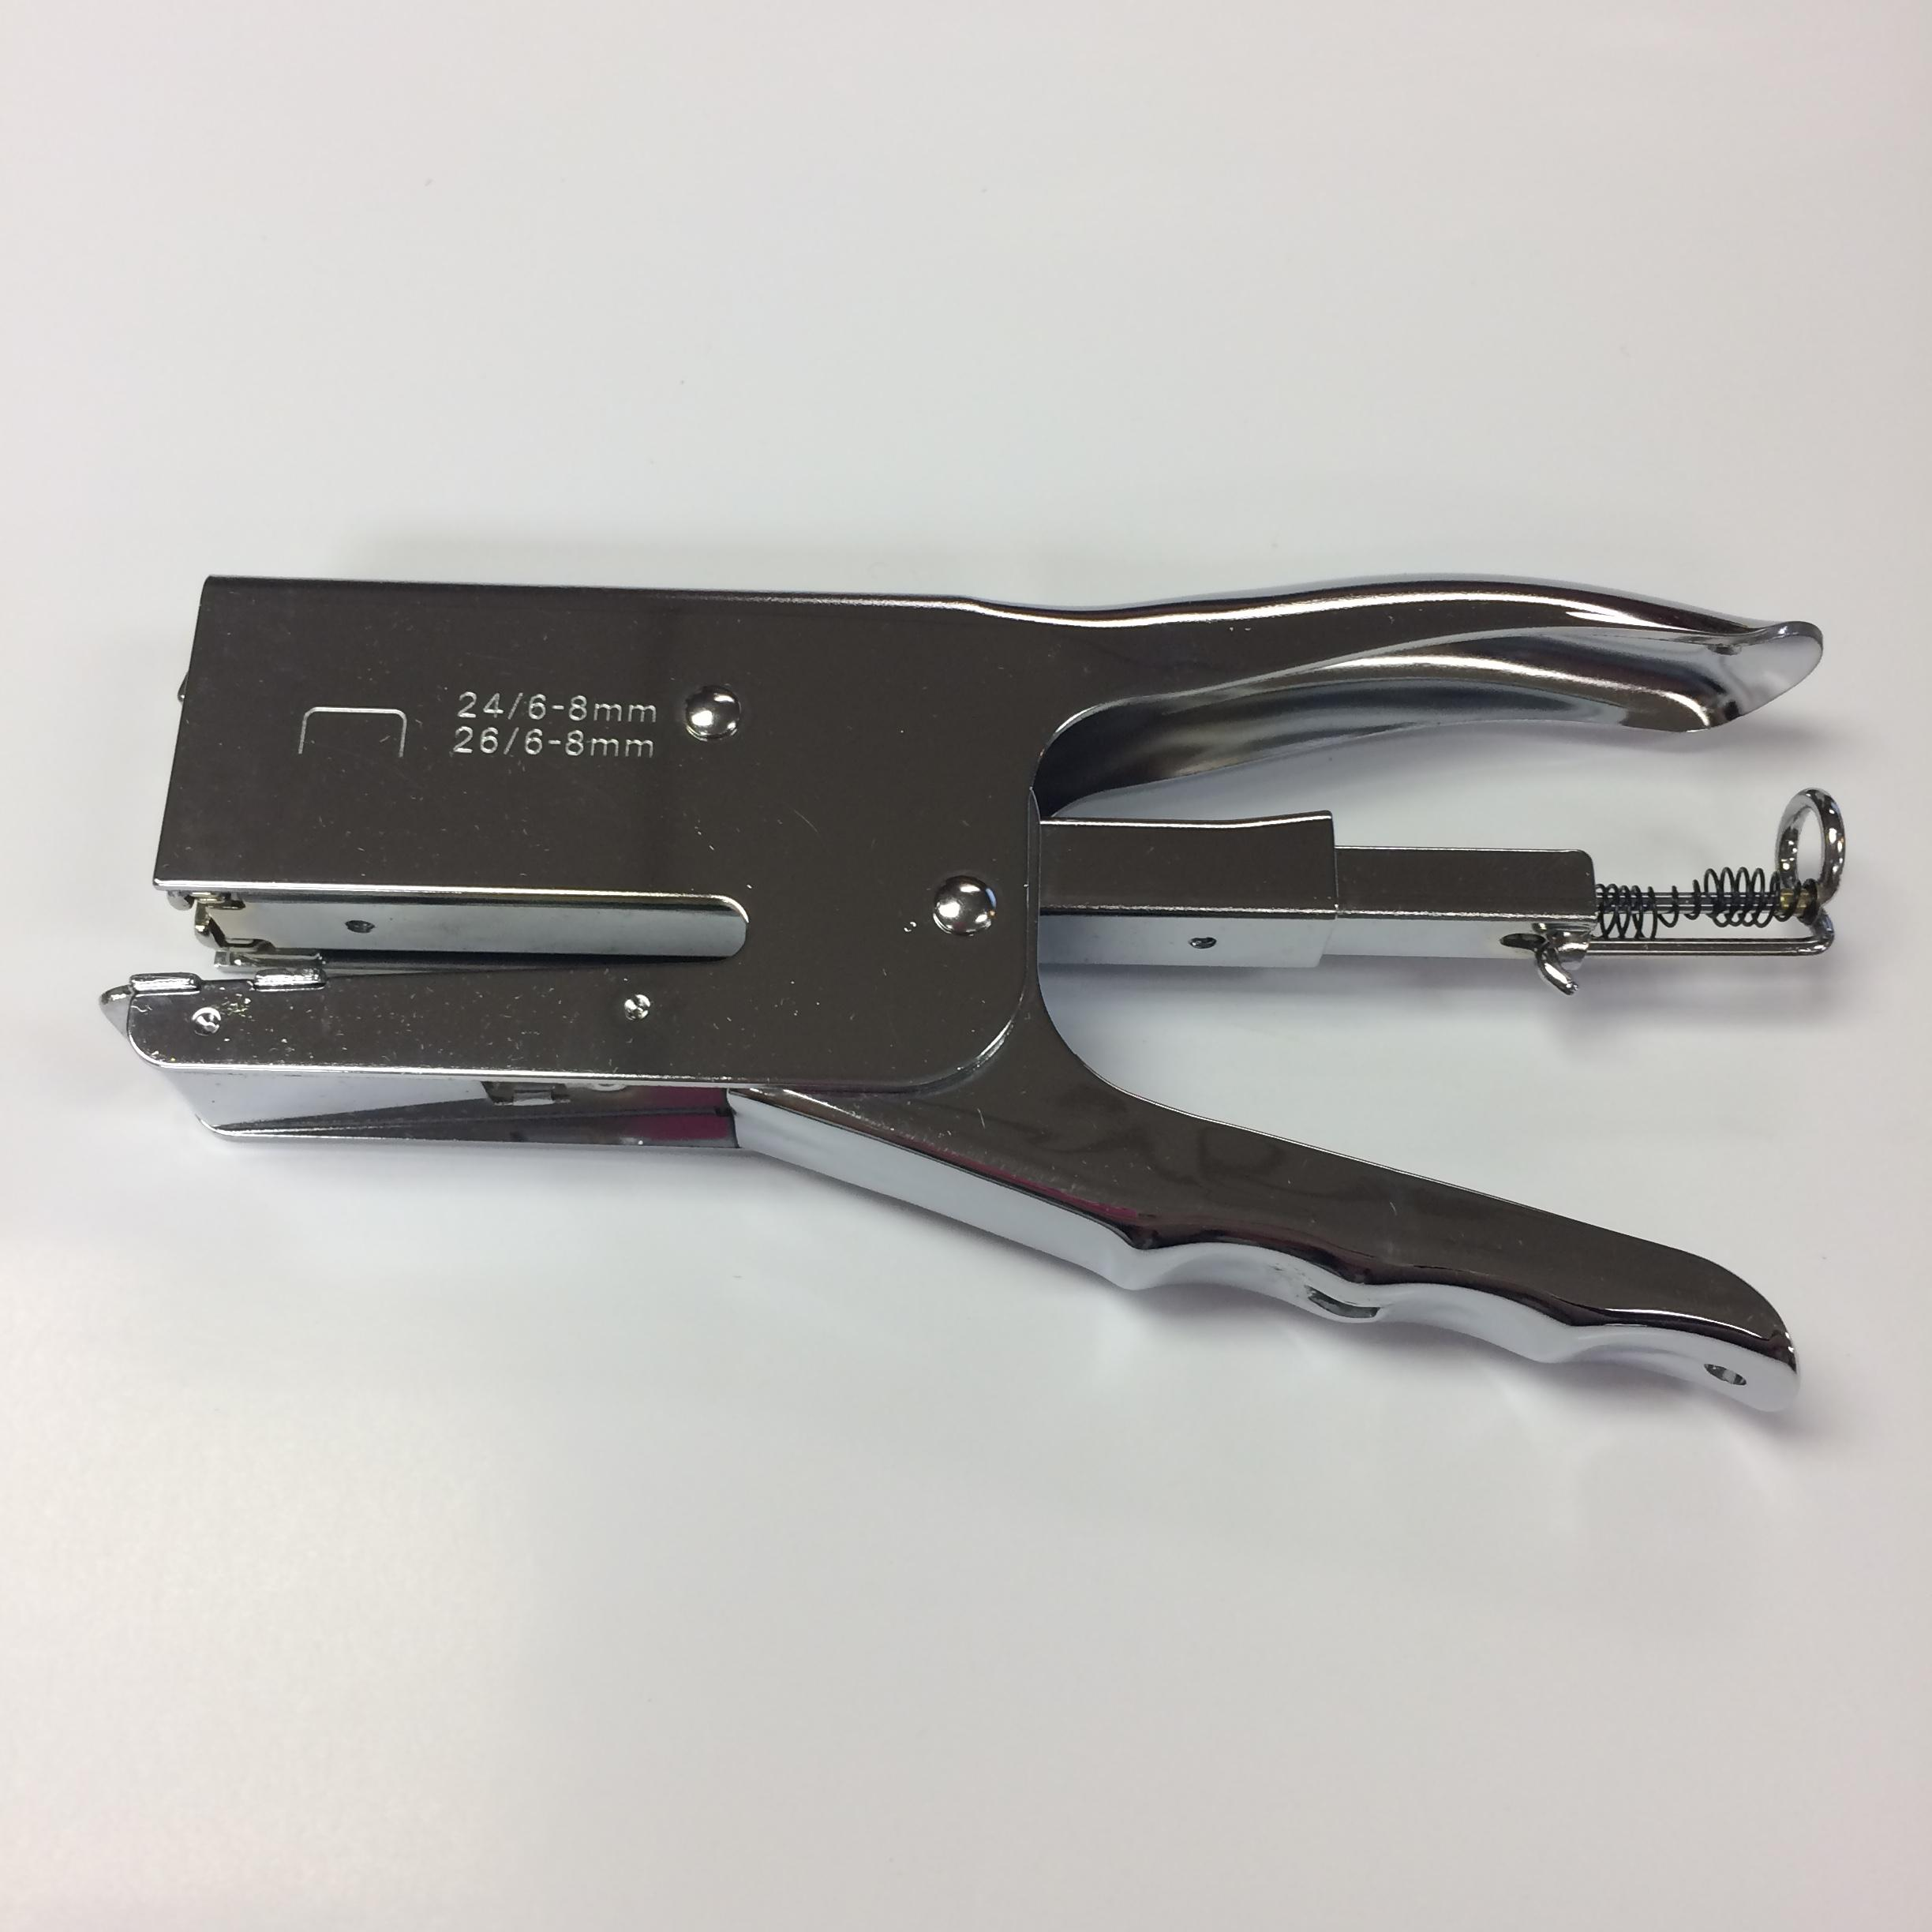Stapler: (152, 540, 1897, 1461)
